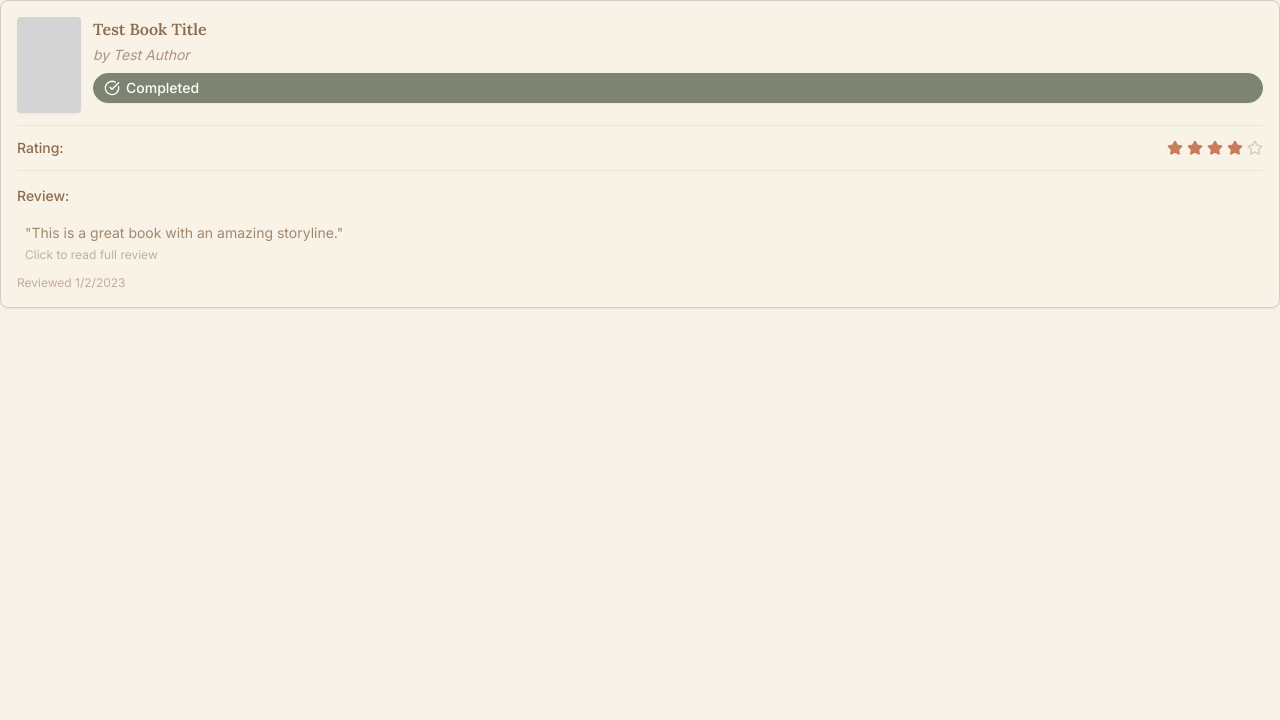
Test: ProfileBookCard Integration › works without reviewer name
This screenshot has width=1280, height=720.
// Open modal
Click the text "\"This is a great book with an amazing storyline.\"" at (184, 232), box [25, 224, 343, 241]
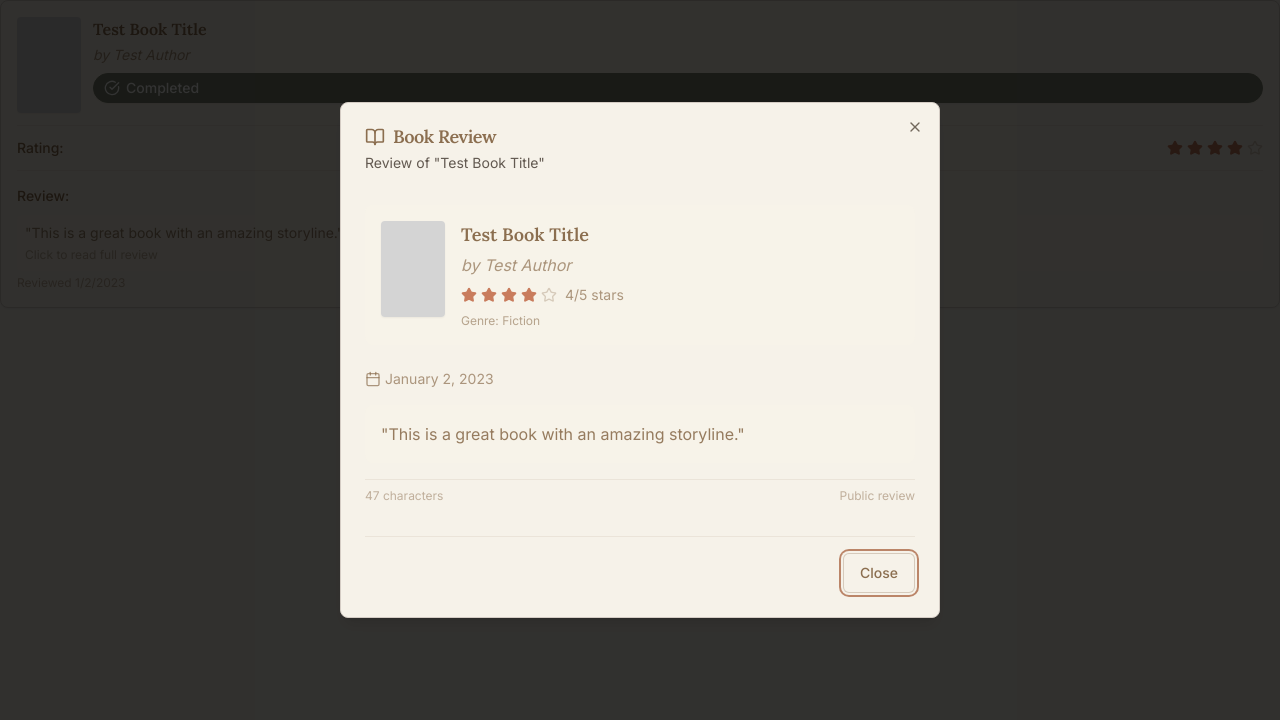
Now the heading "Book Review" is shown, box [365, 125, 496, 148]
Now the text "Review of \"Test Book Title\"" is shown, box [365, 154, 545, 171]
